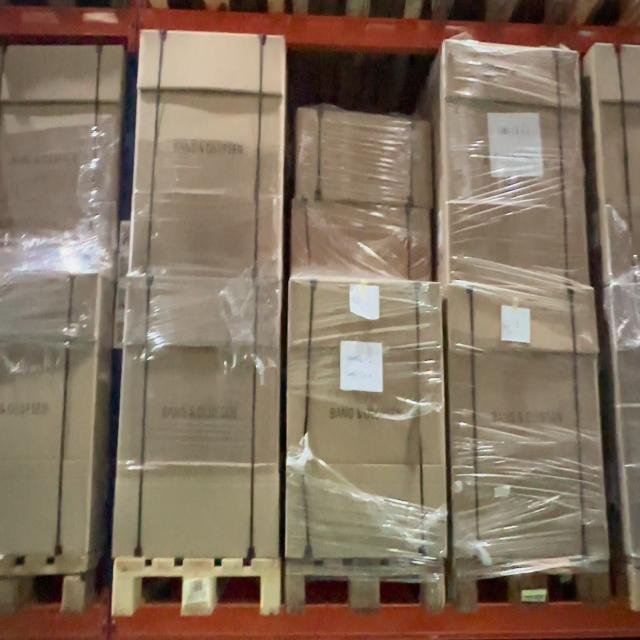box: (113, 276, 280, 563), (449, 282, 612, 558), (290, 282, 448, 558), (130, 26, 283, 286), (445, 43, 589, 288), (297, 110, 433, 203)
